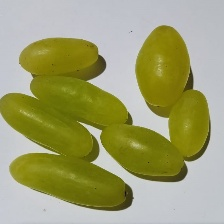grapes: (23, 18, 161, 206)
